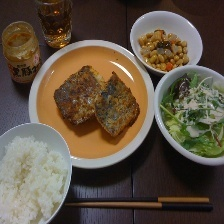rice: (0, 131, 71, 224)
